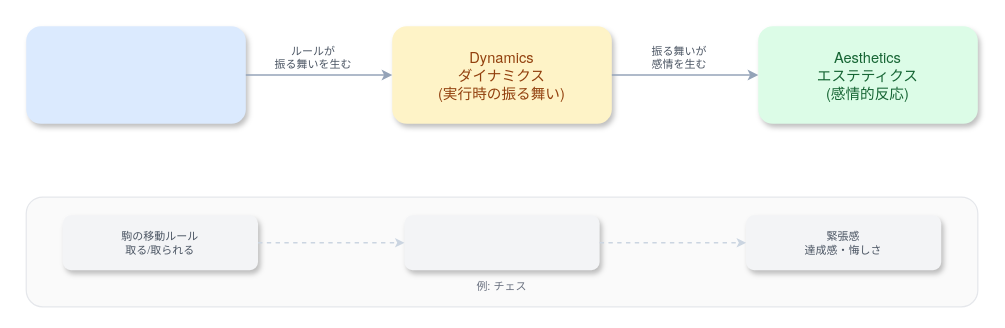
The diagram is 1005 pixels wide and 328 high, and some of its shapes have lost their labels. Here are the shapes that lost their labels. From the top down, the centre of each, then its label:
At pixel 137 76: "Mechanics メカニクス (ルール・システム)".
At pixel 502 244: "フォーク・ピン ポジション争い".
